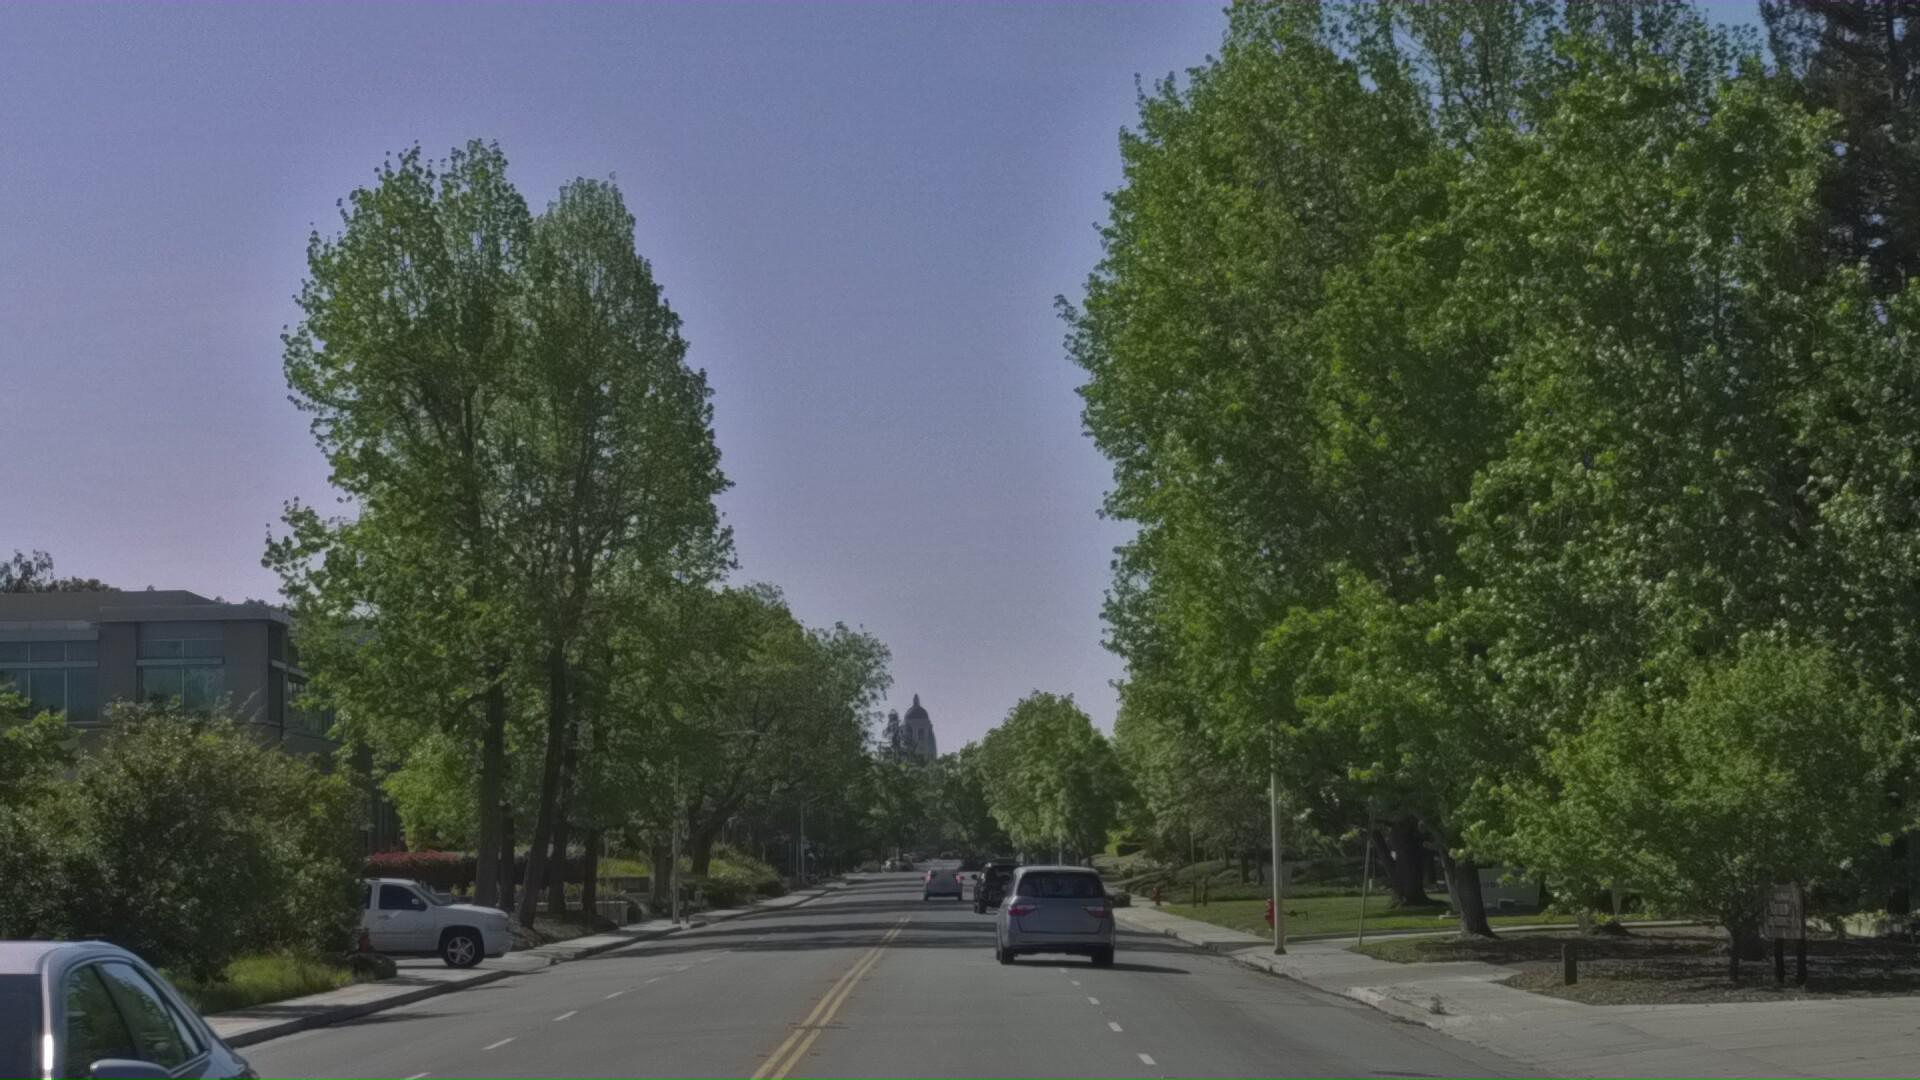car: (0, 975, 320, 1080), (289, 968, 533, 1080), (990, 957, 1117, 1065)
